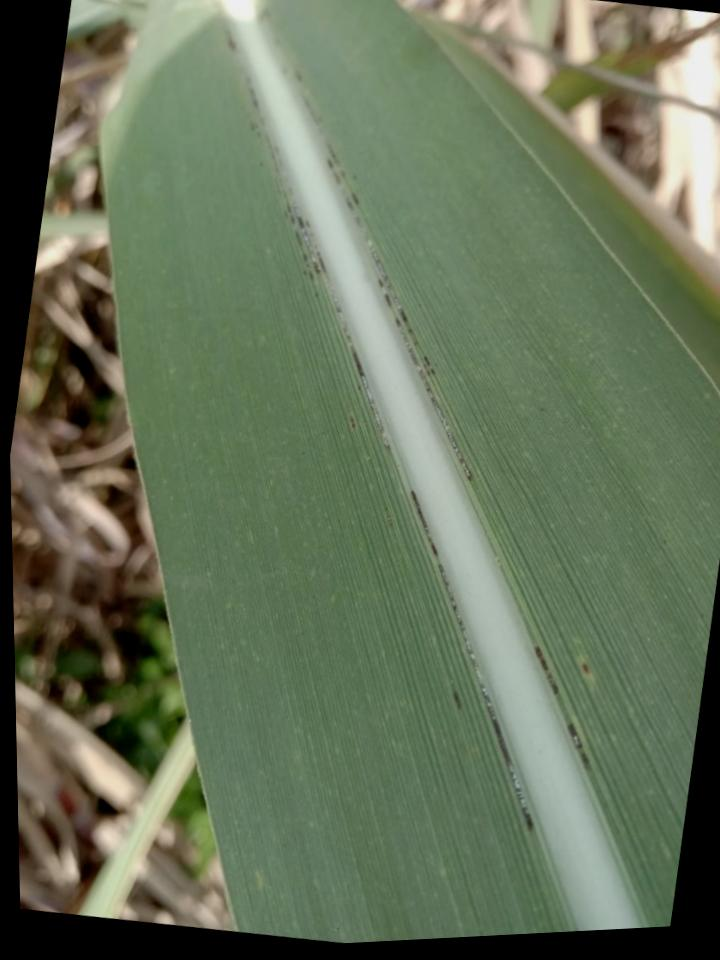Rust: (437, 563, 533, 832), (316, 251, 389, 451), (395, 316, 472, 481), (345, 197, 407, 323), (264, 131, 295, 224), (409, 489, 438, 557), (294, 203, 321, 276), (533, 646, 560, 695), (294, 229, 314, 282), (567, 722, 589, 765), (301, 93, 320, 125), (244, 77, 260, 108), (378, 279, 391, 308), (326, 139, 339, 165), (452, 690, 462, 711), (423, 356, 434, 375), (257, 8, 271, 21), (349, 413, 356, 430), (295, 67, 302, 84), (332, 171, 341, 184), (249, 122, 259, 133), (227, 38, 235, 50), (582, 663, 589, 675), (327, 159, 334, 170), (352, 194, 358, 205), (339, 169, 346, 178), (281, 65, 287, 75), (352, 173, 358, 180), (306, 220, 310, 228), (302, 269, 306, 276)
